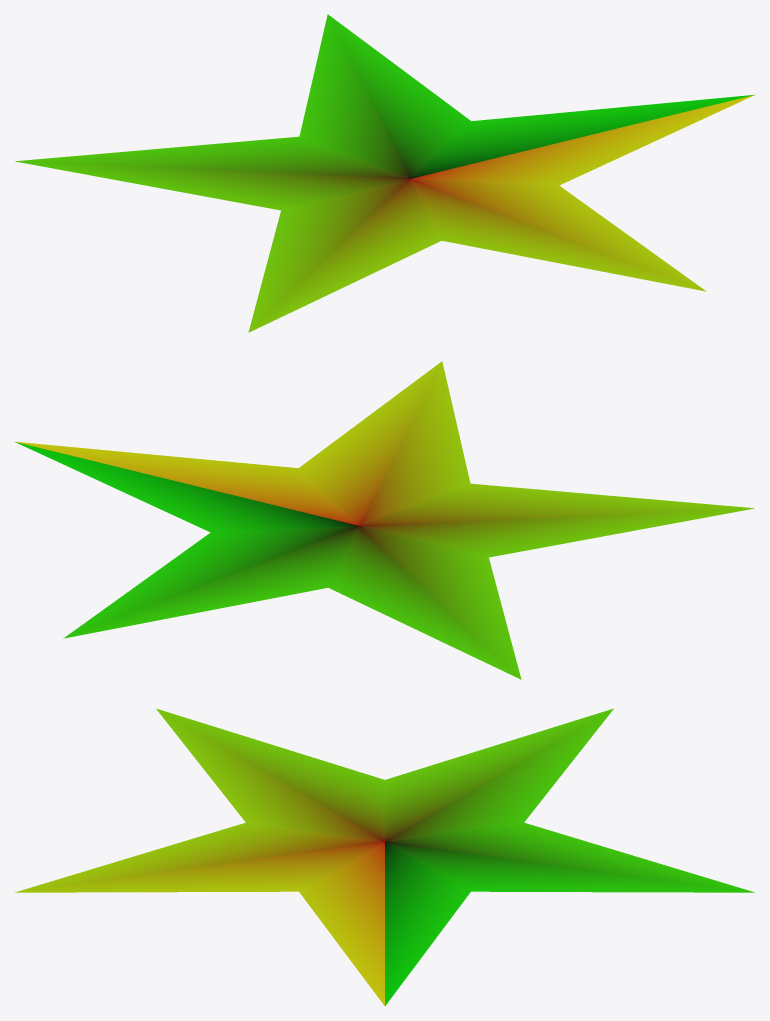
File: star_001.fbx
3 renders of one model, top to bottom at view 1: azimuth 30°, elevation 25°; view 2: azimuth 150°, elevation 25°; view 3: azimuth 270°, elevation 25°, orthographic. The views are drawn at different scales.
Visible parts, largest first — view 1: star_001; view 2: star_001; view 3: star_001.
Boxes of the visible parts, x1,y1,x2,y2 form: star_001: (15,14,755,332); star_001: (14,361,754,679); star_001: (15,708,754,1005).
Bounding box in the file's own units: 1.81 × 0 × 1.9.
